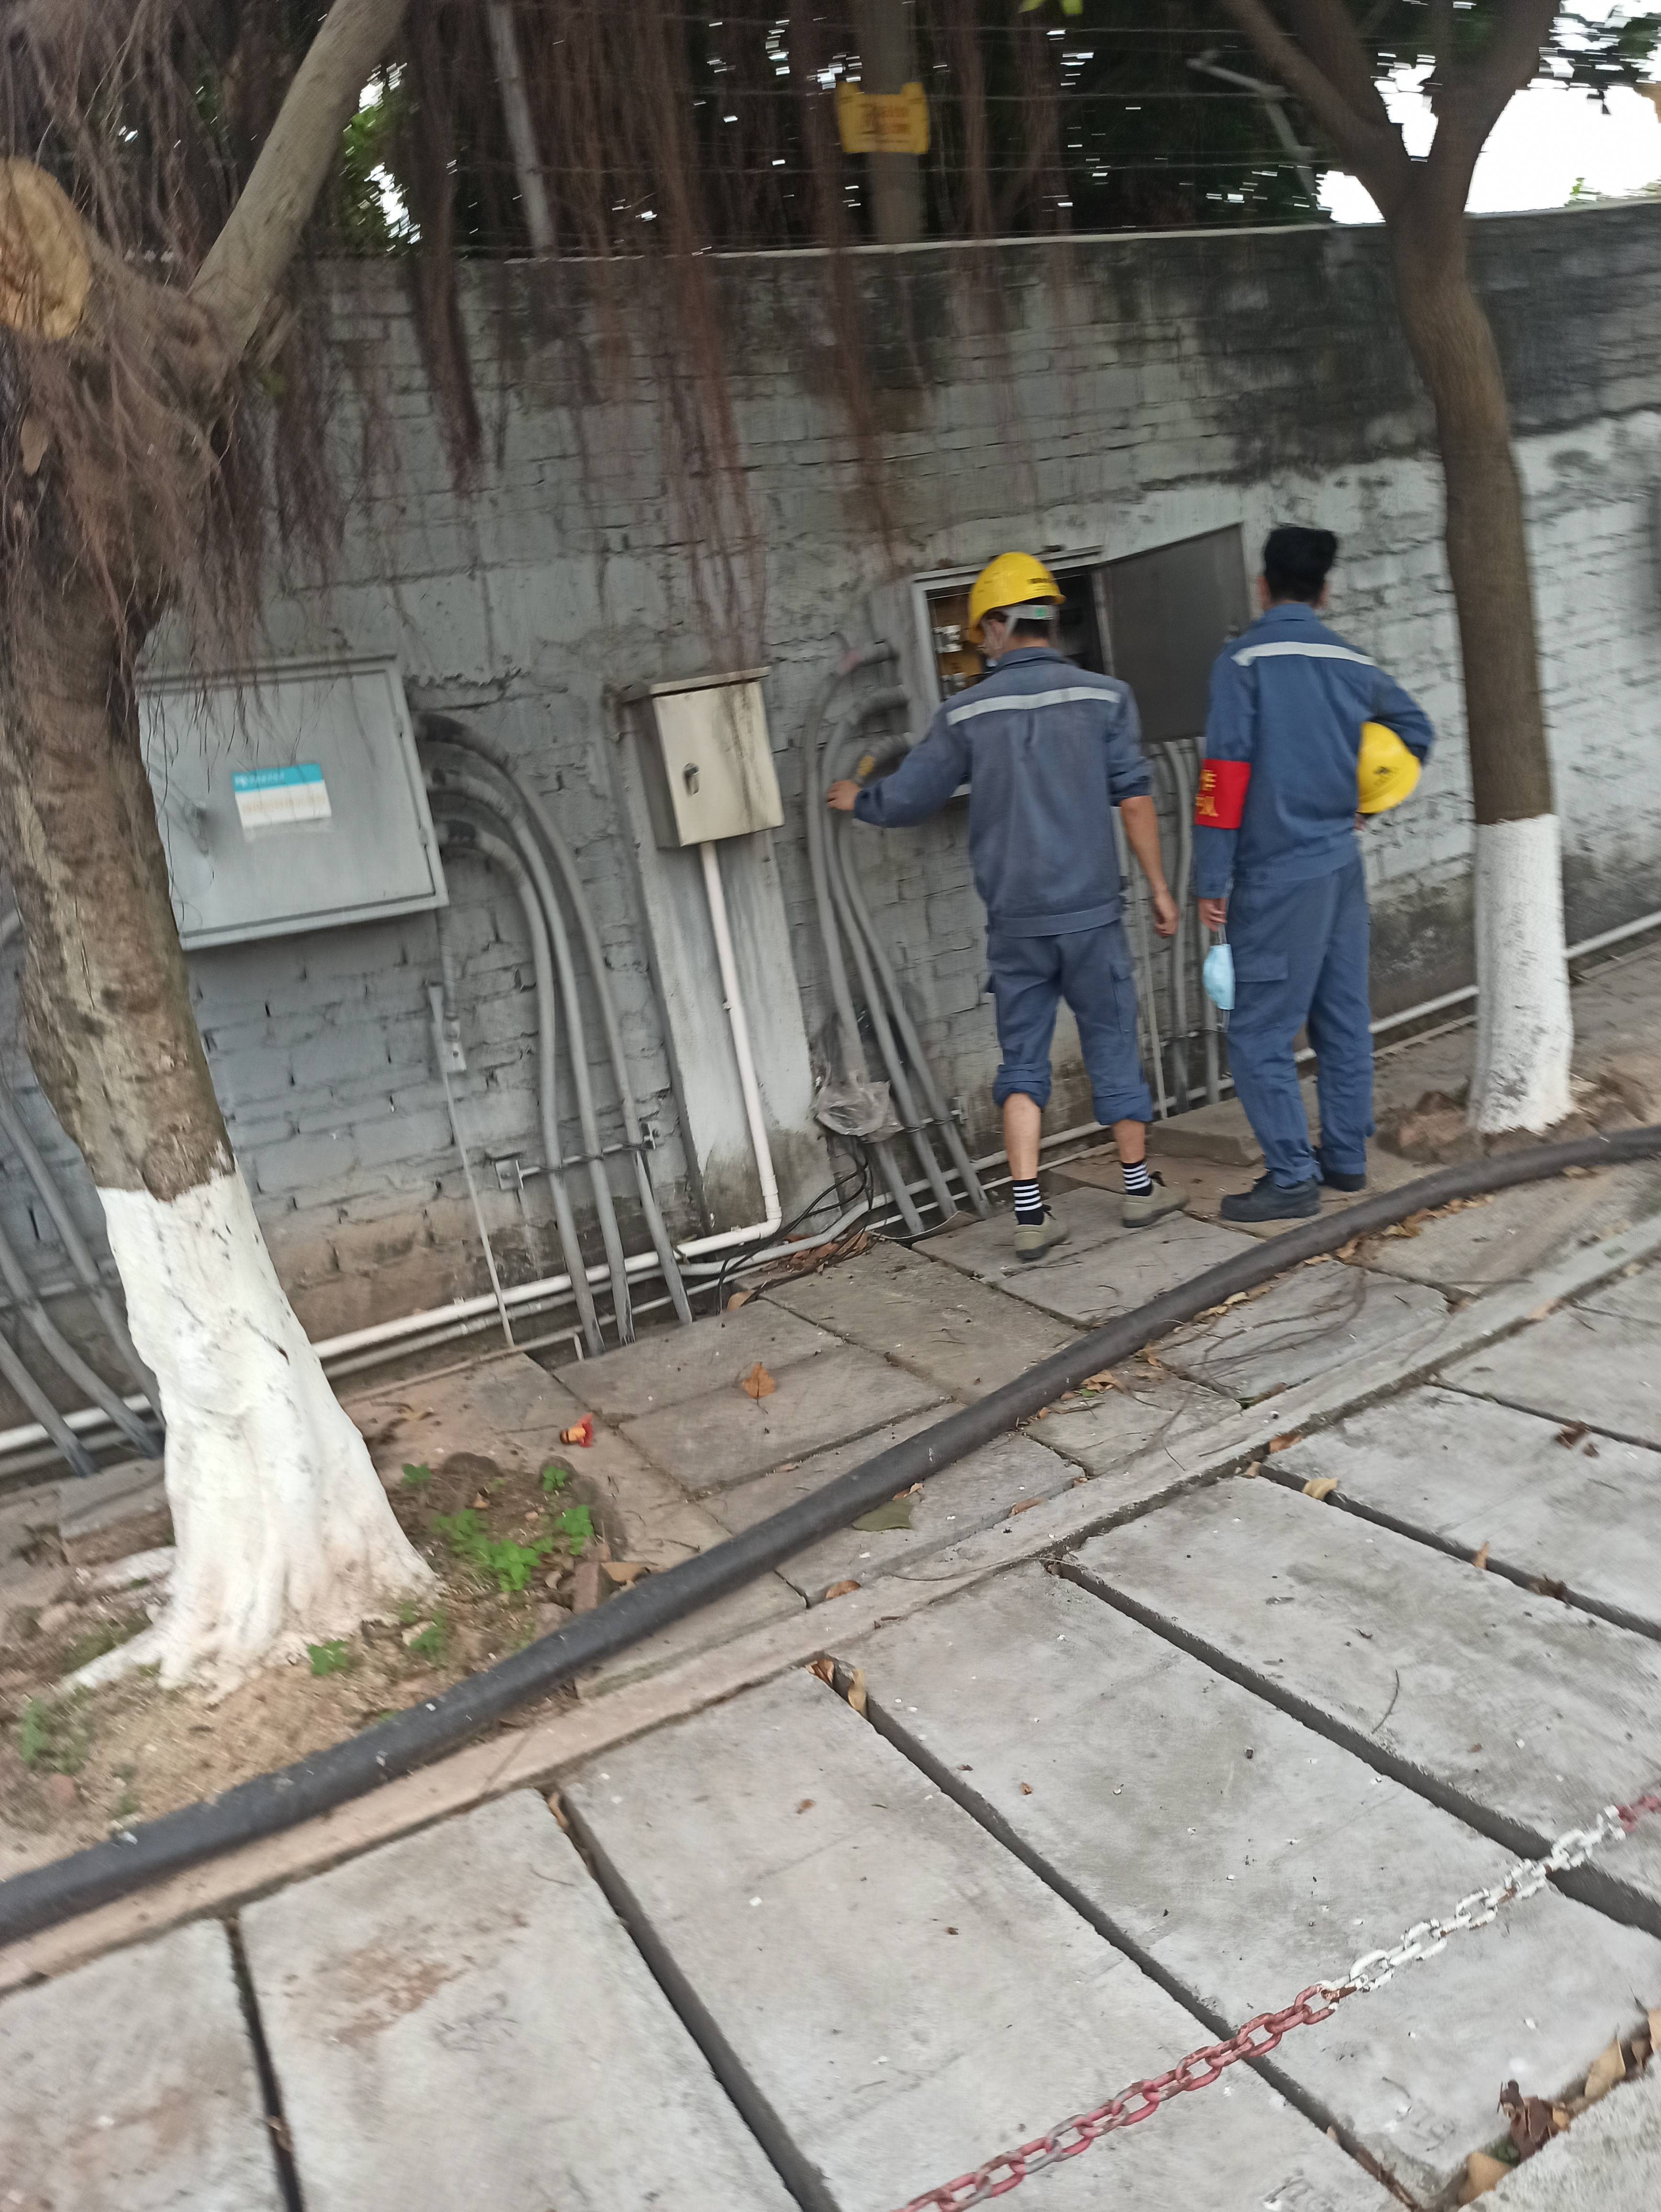downsuit: (1218, 839, 1391, 1174), (995, 944, 1155, 1123)
upsuit: (853, 652, 1167, 933), (1200, 597, 1432, 809)
wrongbottom: (981, 1066, 1059, 1188), (1089, 1069, 1160, 1178)
wrongtop: (1106, 766, 1199, 940)
